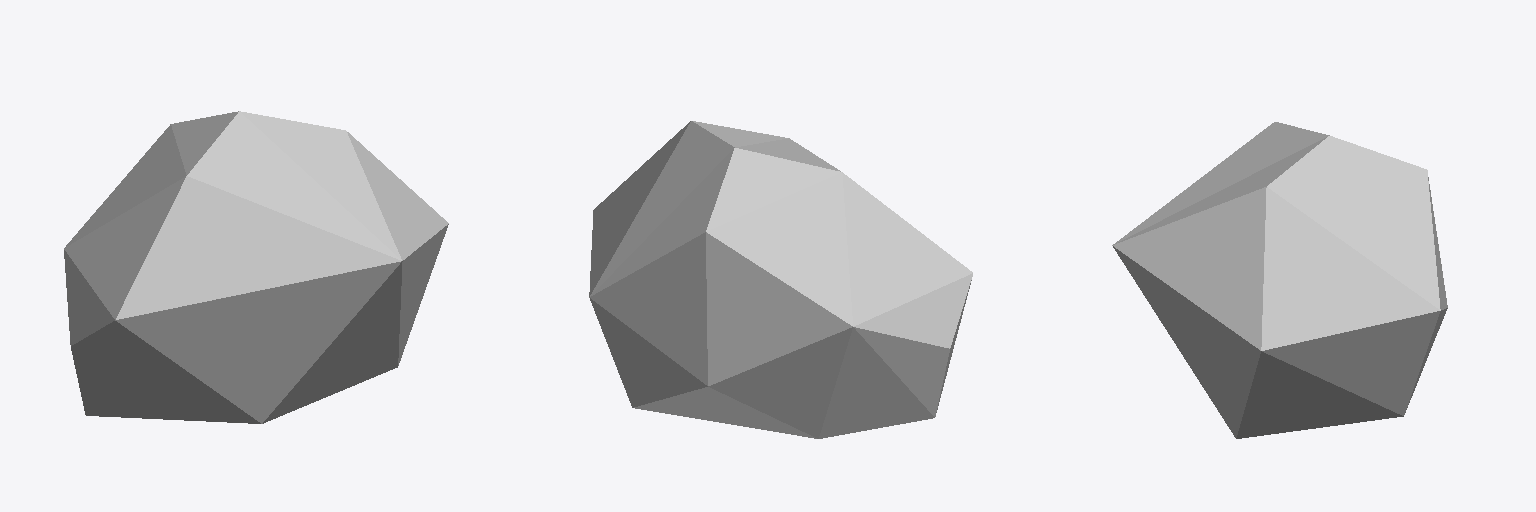
Rendered from Bush1.obj.
3 renders of one model, left to right at view 1: azimuth 30°, elevation 25°; view 2: azimuth 150°, elevation 25°; view 3: azimuth 270°, elevation 25°, orthographic.
Visible parts, largest first — view 1: Bush1_Icosphere; view 2: Bush1_Icosphere; view 3: Bush1_Icosphere.
Boxes of the visible parts, box(x1,y1,x2,y2) form: Bush1_Icosphere: box(64, 111, 448, 423); Bush1_Icosphere: box(589, 121, 972, 438); Bush1_Icosphere: box(1112, 122, 1447, 438).
Bounding box in the file's own units: 3.26 × 2.11 × 2.58.